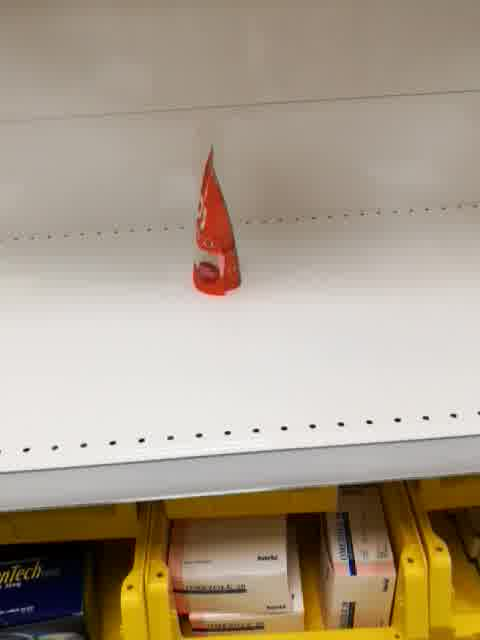whitechia: (191, 142, 242, 300)
